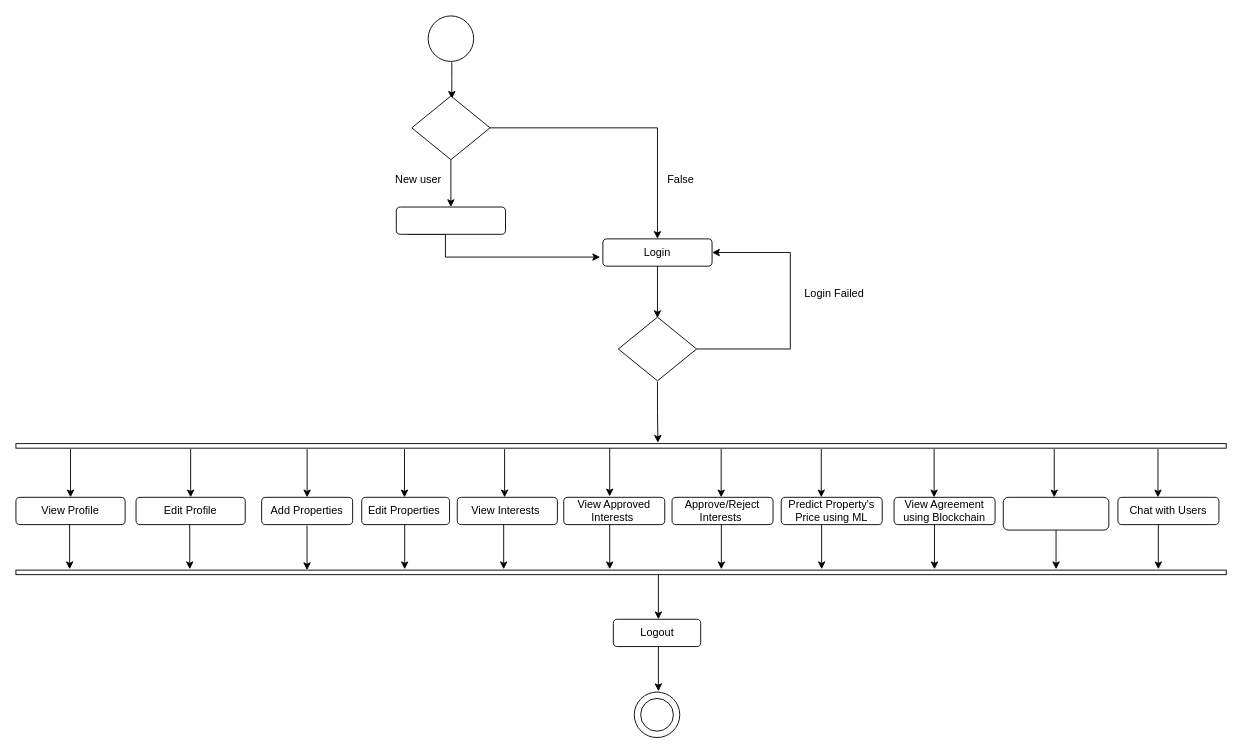
This 1242x753 diagram has some shape labels left out. Each missing label, with the box of its shape:
Payment Using Blockchain: (1002, 496, 1109, 530)
Registration: (395, 206, 506, 234)
